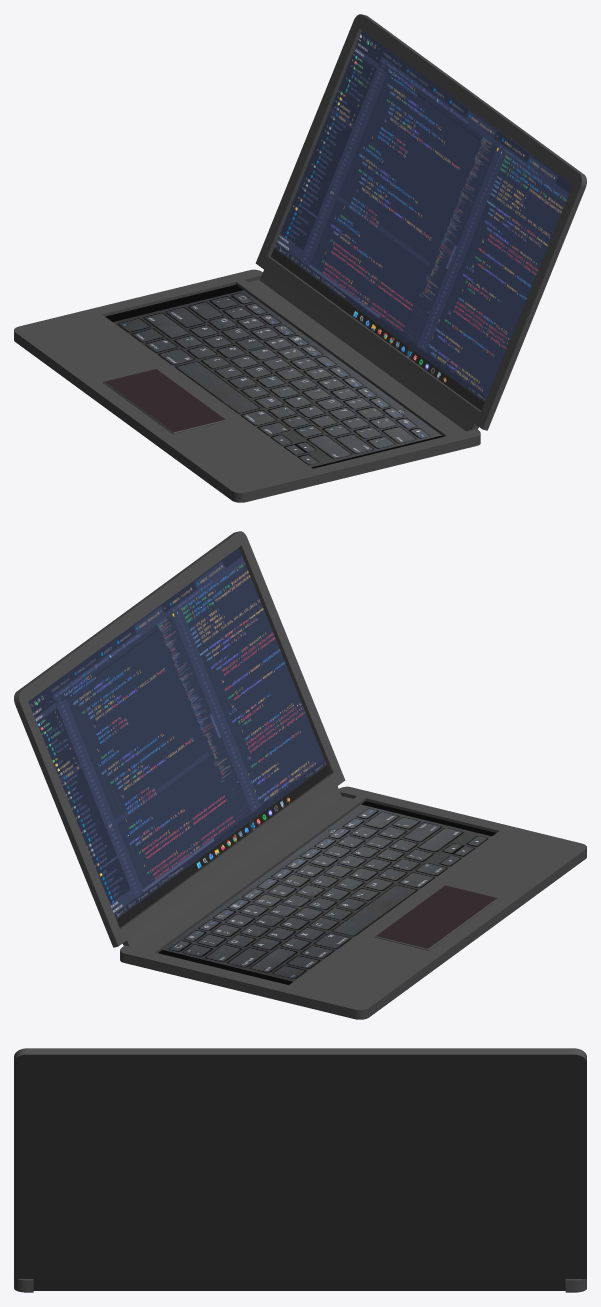
Rendered from The MODEL.glb.
The picture shows the model from 3 angles, top to bottom: view 1: azimuth 30°, elevation 25°; view 2: azimuth 150°, elevation 25°; view 3: azimuth 270°, elevation 25°; orthographic projection. The views are drawn at different scales.
Visible parts, largest first — view 1: Cube; view 2: Cube; view 3: Cube.
Boxes of the visible parts, bbox=[...] form: Cube: bbox=[14, 14, 586, 502]; Cube: bbox=[14, 531, 586, 1019]; Cube: bbox=[14, 1048, 586, 1292].
Size of the model in its own units: 0.197 by 0.1295 by 0.2198.
6 materials, 2 textured.
